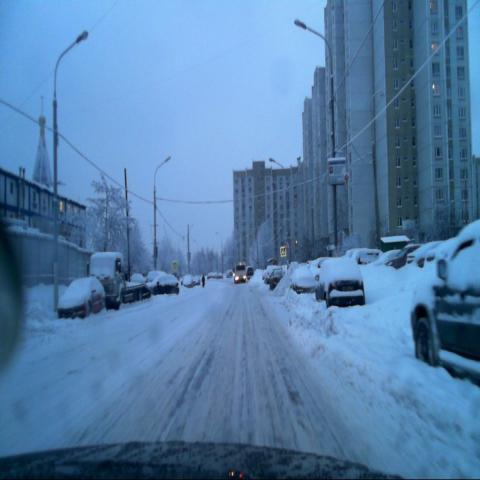5_19_1: (279, 244, 287, 259), (171, 260, 179, 273)
